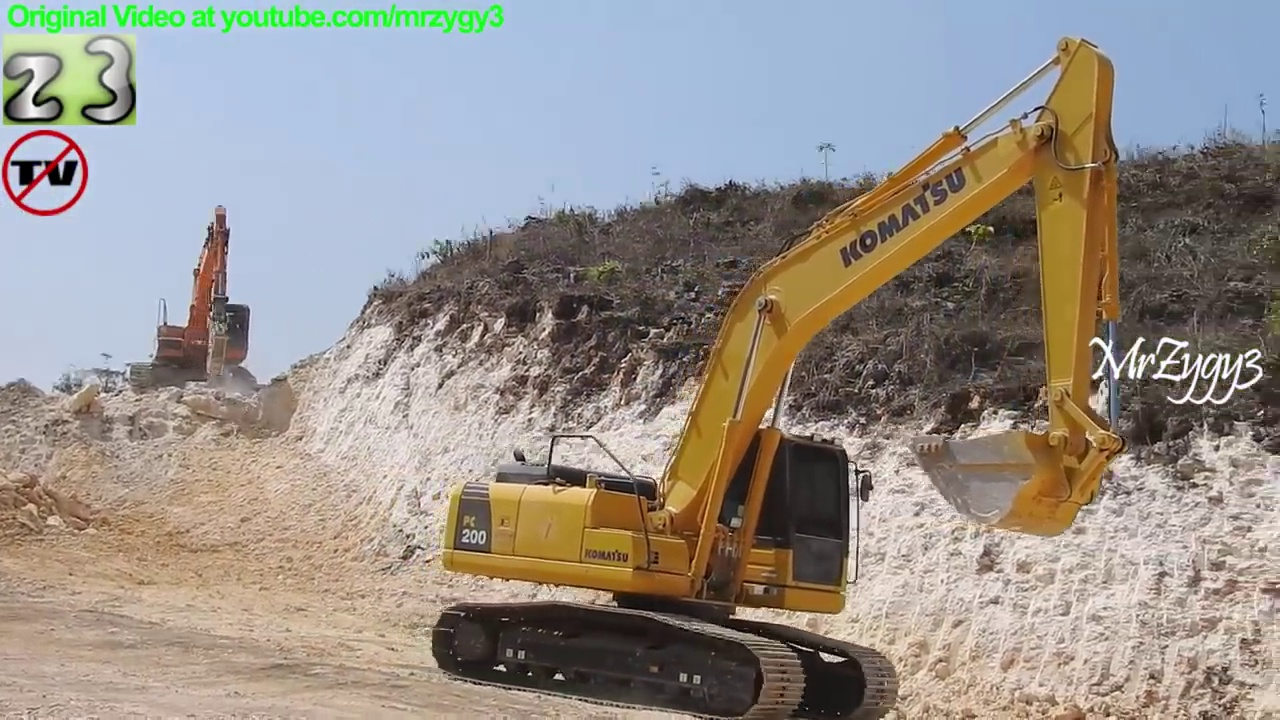excavator: (427, 34, 1134, 720), (124, 202, 268, 403)
